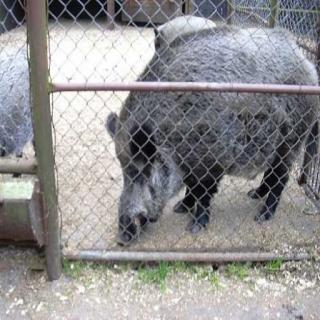Pig: (89, 3, 320, 239)
